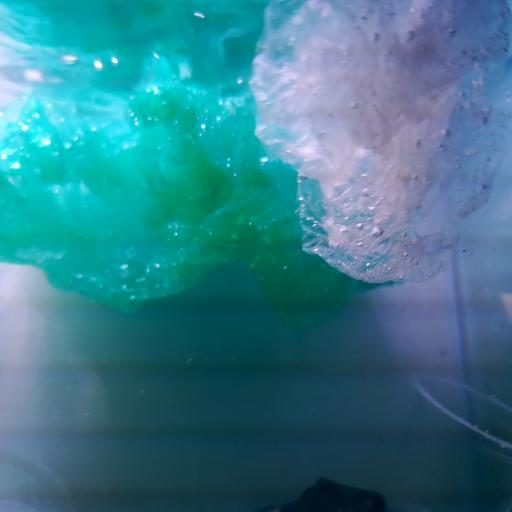plastic_bag: (2, 61, 364, 326), (252, 0, 512, 286)
plastic_cup: (380, 369, 512, 512)
